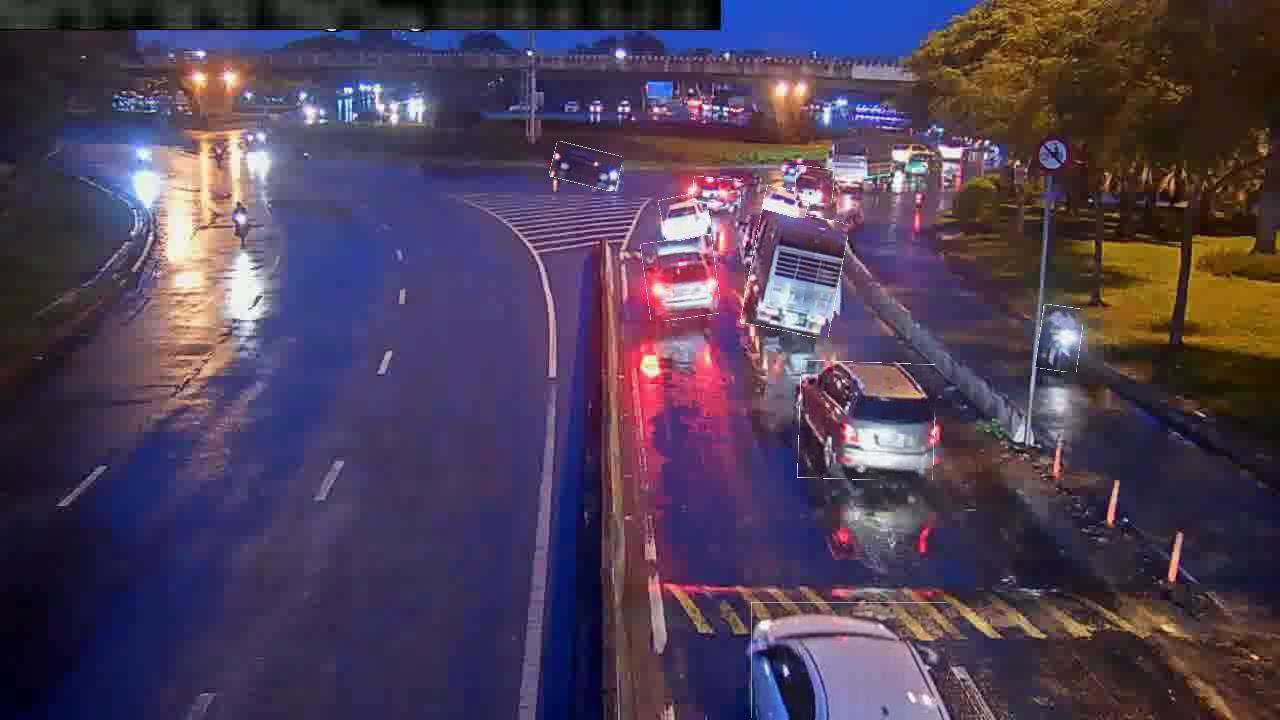8: (745, 212, 844, 336)
container: (751, 602, 948, 719), (798, 361, 935, 480), (643, 237, 719, 320), (550, 145, 622, 189), (660, 193, 711, 240), (795, 166, 835, 203), (763, 188, 809, 218), (693, 177, 742, 204)
motorbike: (1037, 306, 1082, 372)
